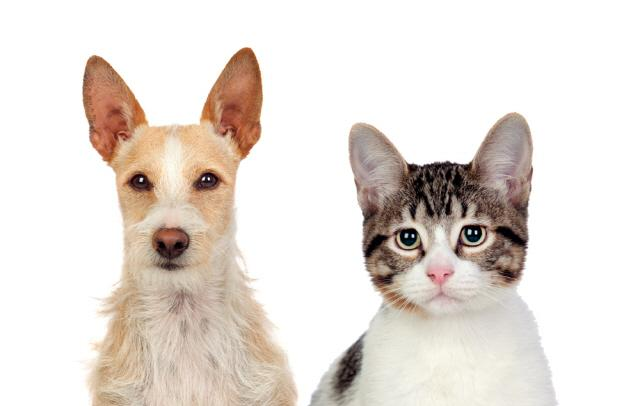cat: (323, 86, 582, 403)
dog: (51, 55, 314, 406)
